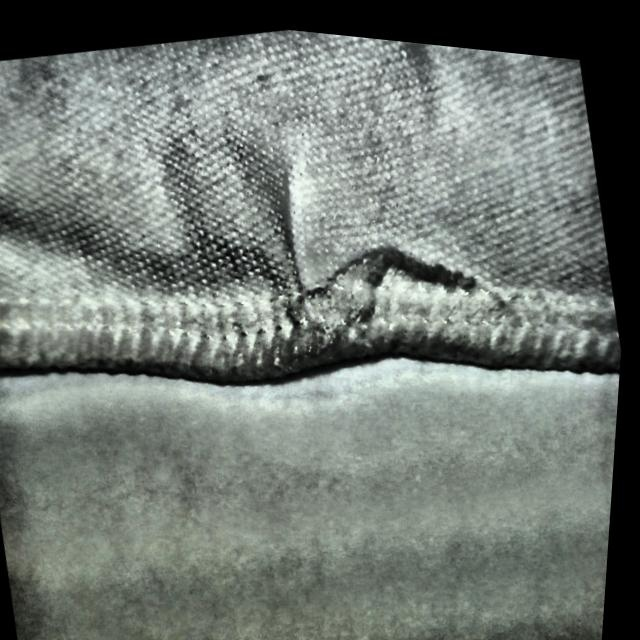seam: (225, 138, 494, 394)
